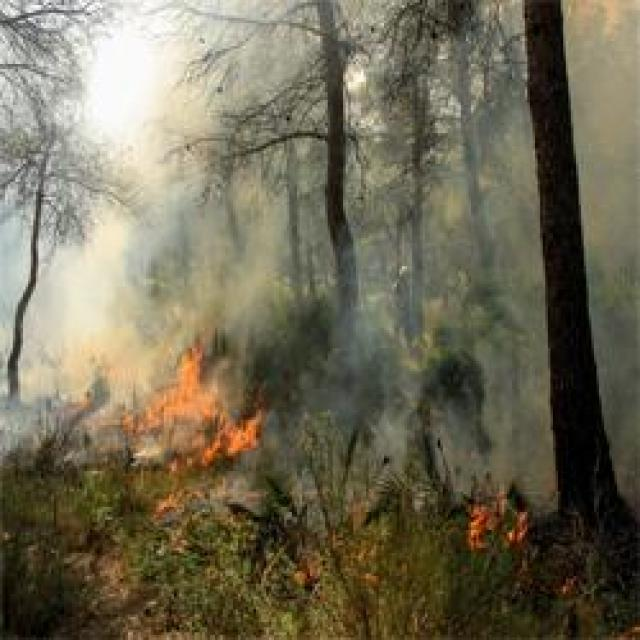fire: (173, 366, 206, 418), (226, 421, 253, 455)
smoke: (571, 2, 640, 172), (480, 143, 534, 330), (487, 345, 544, 479), (596, 252, 640, 395), (49, 254, 108, 344), (344, 304, 402, 395), (102, 334, 152, 393), (228, 246, 268, 310), (440, 415, 482, 469), (373, 416, 405, 461), (134, 215, 174, 251), (5, 402, 28, 432)
